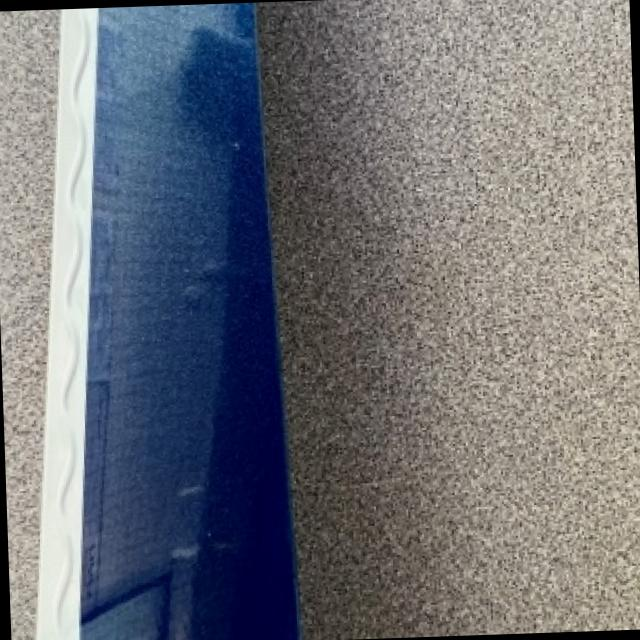healthy: (39, 2, 299, 640), (0, 9, 59, 640)
